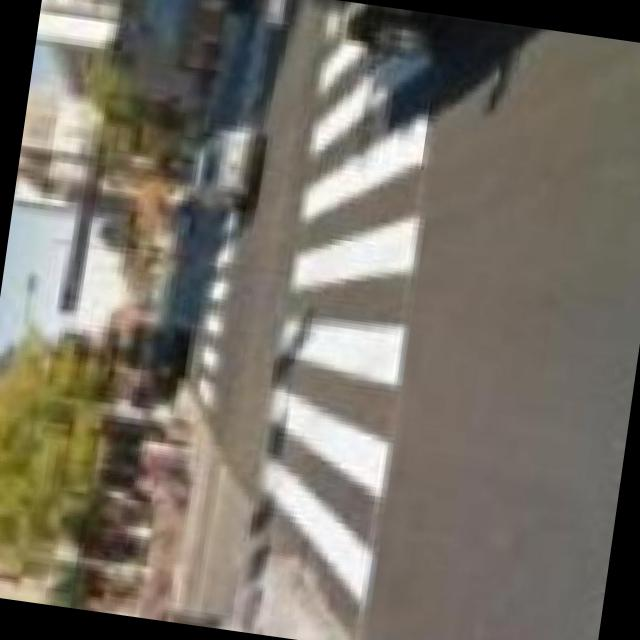zebra: (237, 4, 451, 639)
